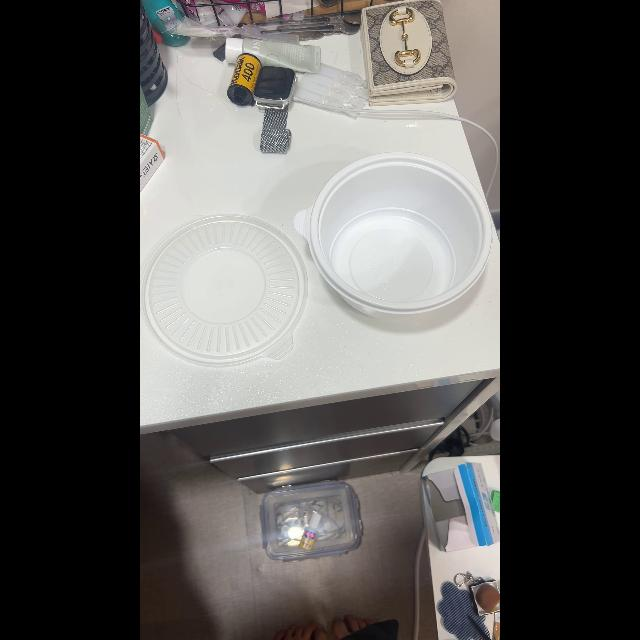clean: (310, 152, 490, 316), (146, 217, 306, 366)
